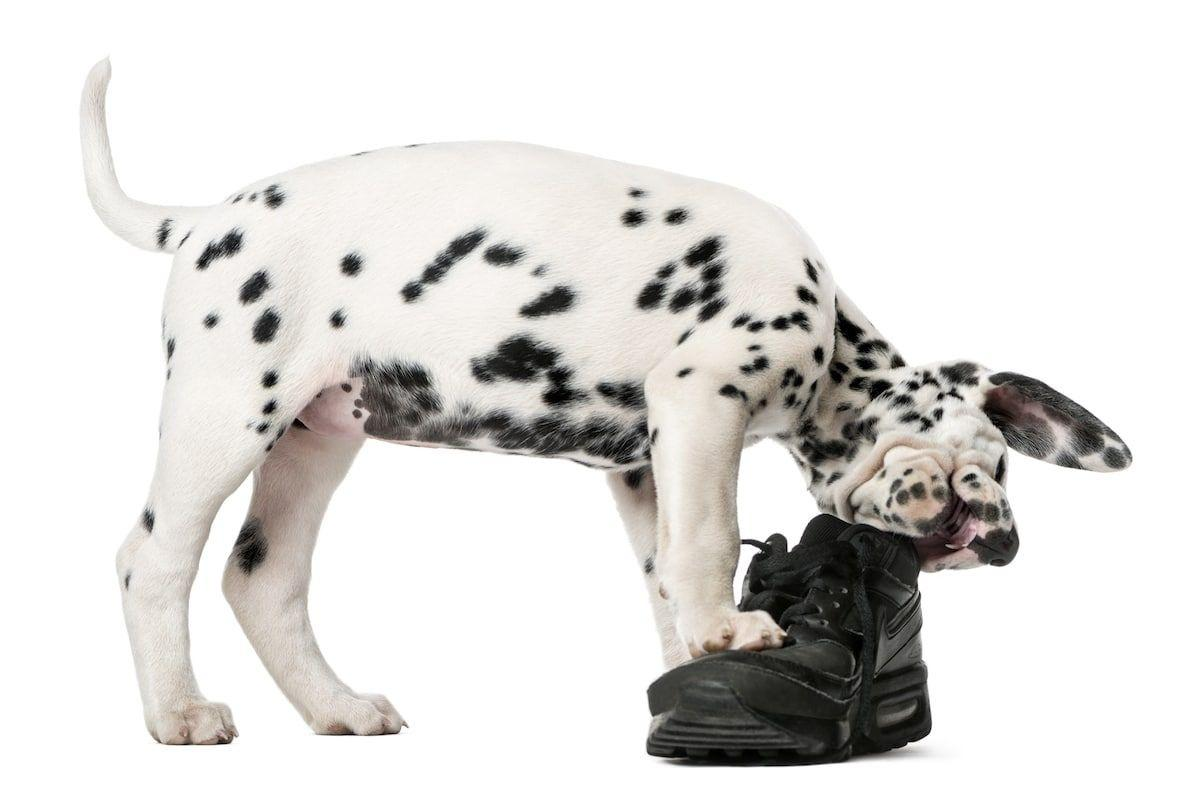puppy-dog: (65, 54, 1137, 747)
